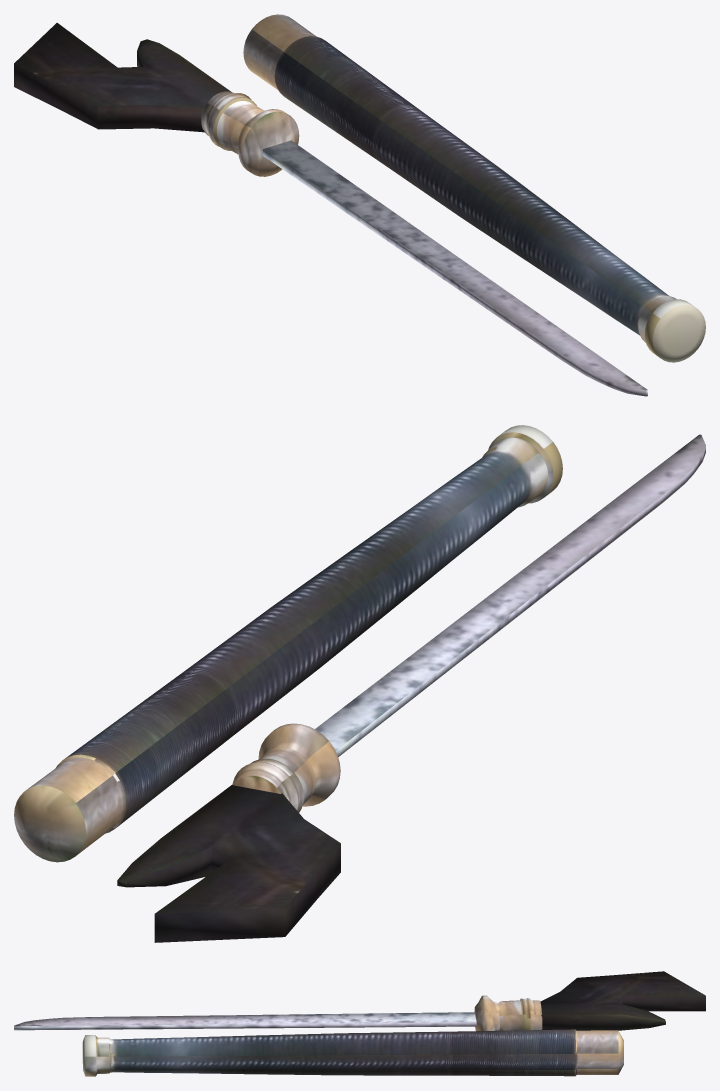
Rendered from 02_badik.glb.
3 views of the same model, one above another, from view 1: azimuth 30°, elevation 25°; view 2: azimuth 150°, elevation 25°; view 3: azimuth 270°, elevation 25° (orthographic). The views are drawn at different scales.
Visible parts, largest first — view 1: Badik; view 2: Badik; view 3: Badik.
Boxes of the visible parts, left/top/right/bottom form: Badik: left=14, top=14, right=705, bottom=396; Badik: left=14, top=425, right=705, bottom=942; Badik: left=14, top=971, right=705, bottom=1076.
Bounding box in the file's own units: 134 × 31.05 × 459.
Materials: 1 (1 with a texture image).
